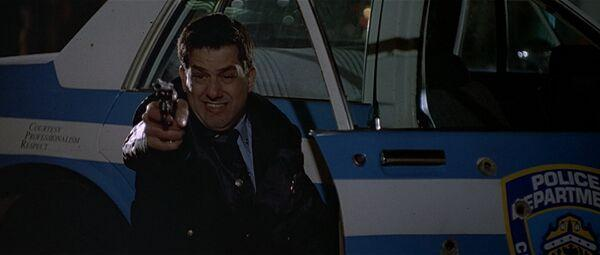Gun: (151, 80, 177, 117)
